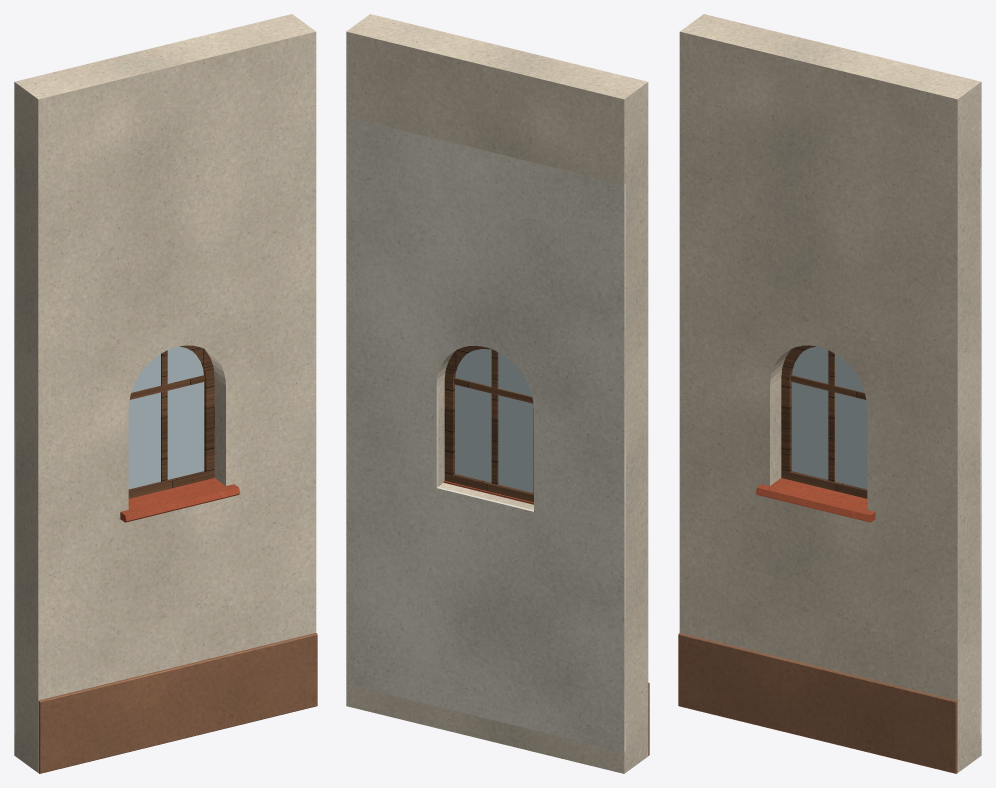
The model's file is m_wall_small.glb.
The picture shows the model from 3 angles, left to right: view 1: azimuth 30°, elevation 25°; view 2: azimuth 150°, elevation 25°; view 3: azimuth 330°, elevation 25°; orthographic projection.
Visible parts, largest first — view 1: m_wall_small_render, m_wall_small_plinth, m_wall_small_glass, m_wall_small_wood, m_wall_small_tile_clay, m_wall_small_plaster; view 2: m_wall_small_plaster, m_wall_small_render, m_wall_small_glass, m_wall_small_wood; view 3: m_wall_small_render, m_wall_small_plinth, m_wall_small_glass, m_wall_small_wood, m_wall_small_tile_clay, m_wall_small_plaster.
Part boxes in pixels (left/top/right/bottom): m_wall_small_render: left=14, top=14, right=316, bottom=772; m_wall_small_plinth: left=38, top=633, right=317, bottom=773; m_wall_small_glass: left=128, top=346, right=204, bottom=489; m_wall_small_wood: left=128, top=345, right=214, bottom=498; m_wall_small_tile_clay: left=120, top=478, right=240, bottom=522; m_wall_small_plaster: left=14, top=167, right=15, bottom=734; m_wall_small_plaster: left=346, top=117, right=625, bottom=751; m_wall_small_render: left=346, top=14, right=648, bottom=773; m_wall_small_glass: left=455, top=349, right=533, bottom=492; m_wall_small_wood: left=444, top=345, right=533, bottom=502; m_wall_small_render: left=679, top=14, right=981, bottom=772; m_wall_small_plinth: left=678, top=633, right=957, bottom=773; m_wall_small_glass: left=791, top=346, right=867, bottom=489; m_wall_small_wood: left=781, top=345, right=867, bottom=498; m_wall_small_tile_clay: left=755, top=478, right=875, bottom=522; m_wall_small_plaster: left=980, top=167, right=981, bottom=734.
Size of the model in its own units: 2 by 4.64 by 0.375.
Materials: 6 (5 with a texture image).
